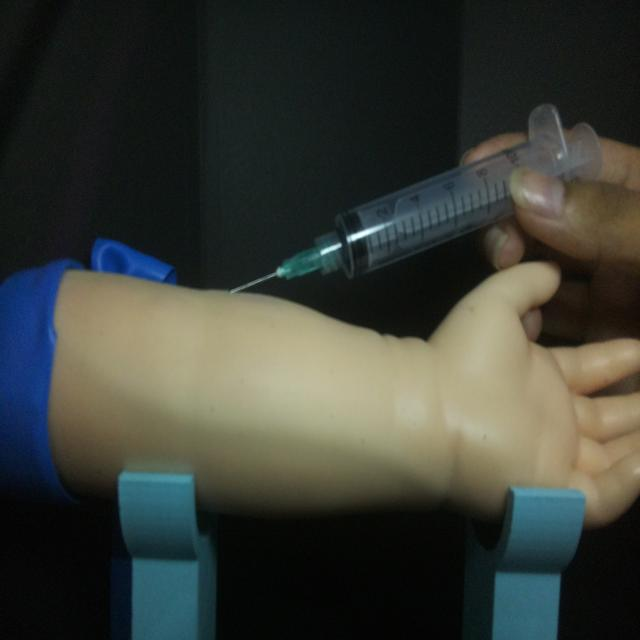21deg: (224, 100, 603, 300)
